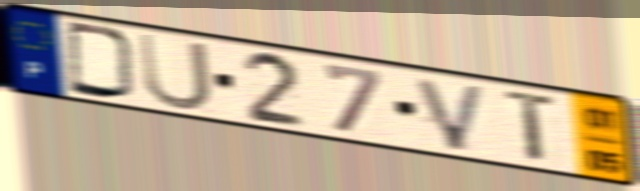2: (242, 50, 306, 133)
7: (321, 59, 386, 138)
D: (63, 18, 141, 103)
T: (501, 86, 561, 165)
U: (134, 30, 216, 113)
V: (411, 74, 491, 155)
